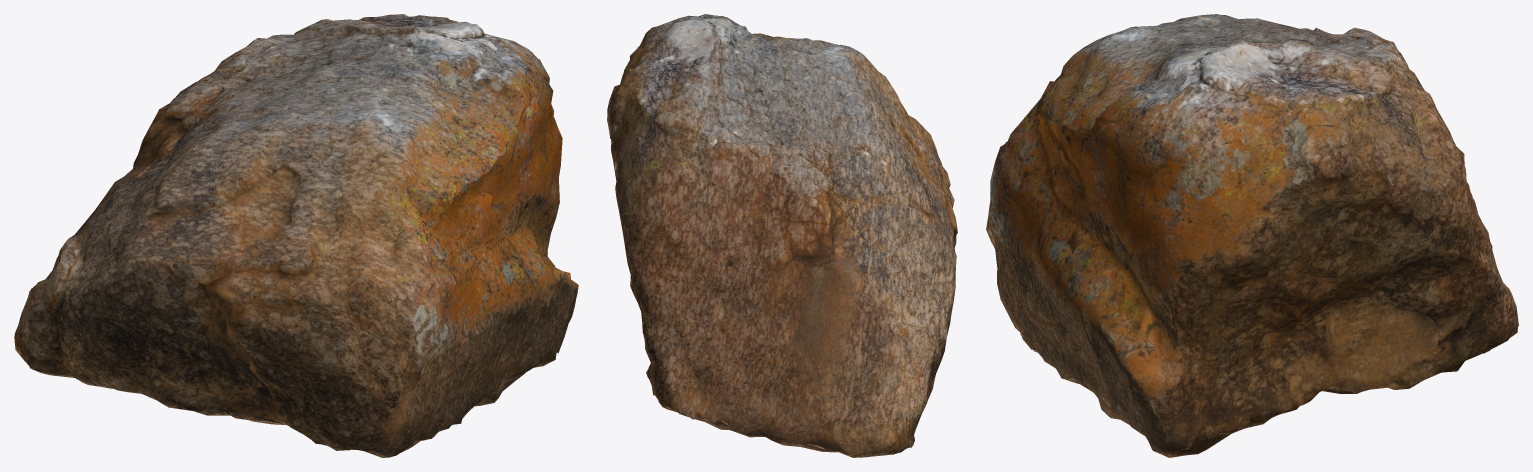
Rendered from namaqualand_boulder_04.glb.
The picture shows the model from 3 angles, left to right: view 1: azimuth 30°, elevation 25°; view 2: azimuth 150°, elevation 25°; view 3: azimuth 270°, elevation 25°; orthographic projection. The views are drawn at different scales.
Parts seen in each view (by area): view 1: model; view 2: model; view 3: model.
Boxes of the visible parts, box(x1,y1,x2,y2) form: model: box(14, 14, 578, 457); model: box(607, 14, 957, 457); model: box(986, 14, 1518, 457).
Bounding box in the file's own units: 2.52 × 1.9 × 2.5.
1 material, 1 textured.
